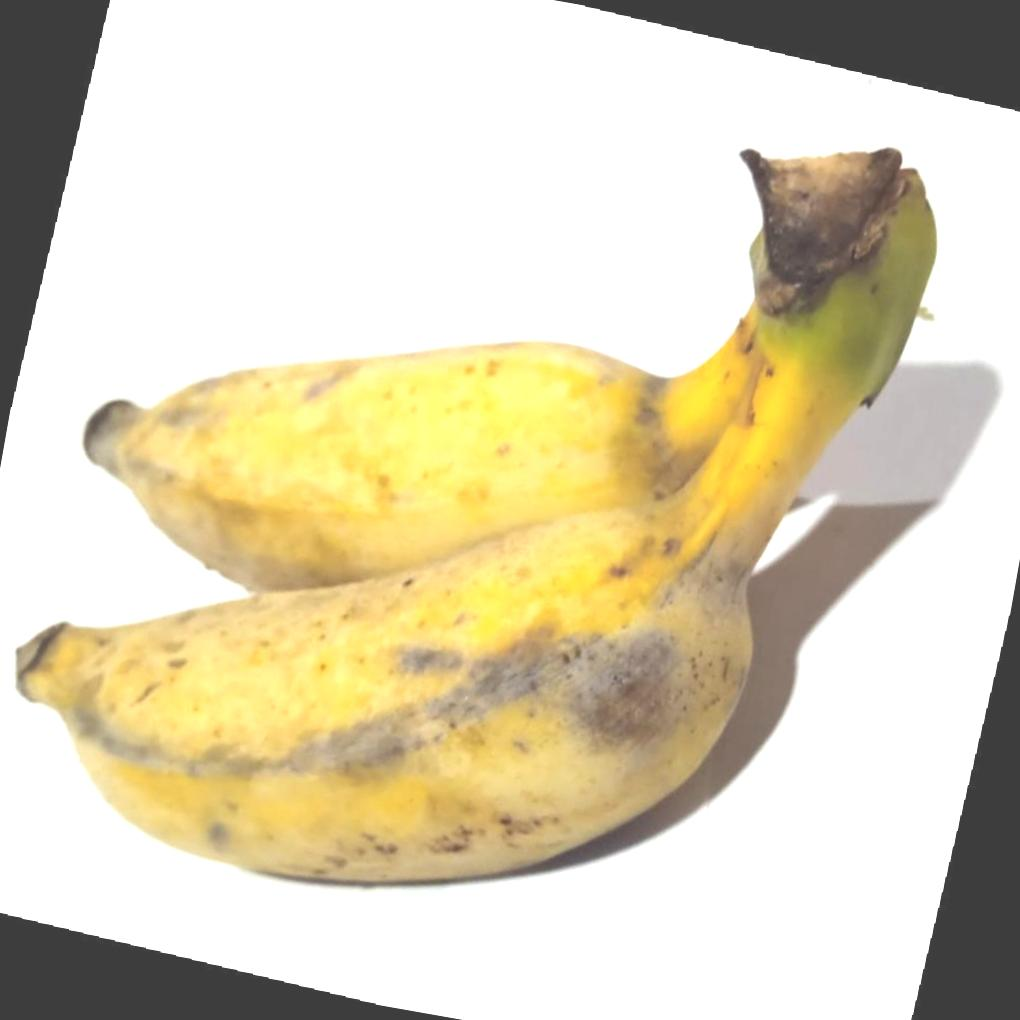Banana Ripe: (0, 44, 949, 1020), (0, 382, 865, 1020), (35, 216, 794, 664)
